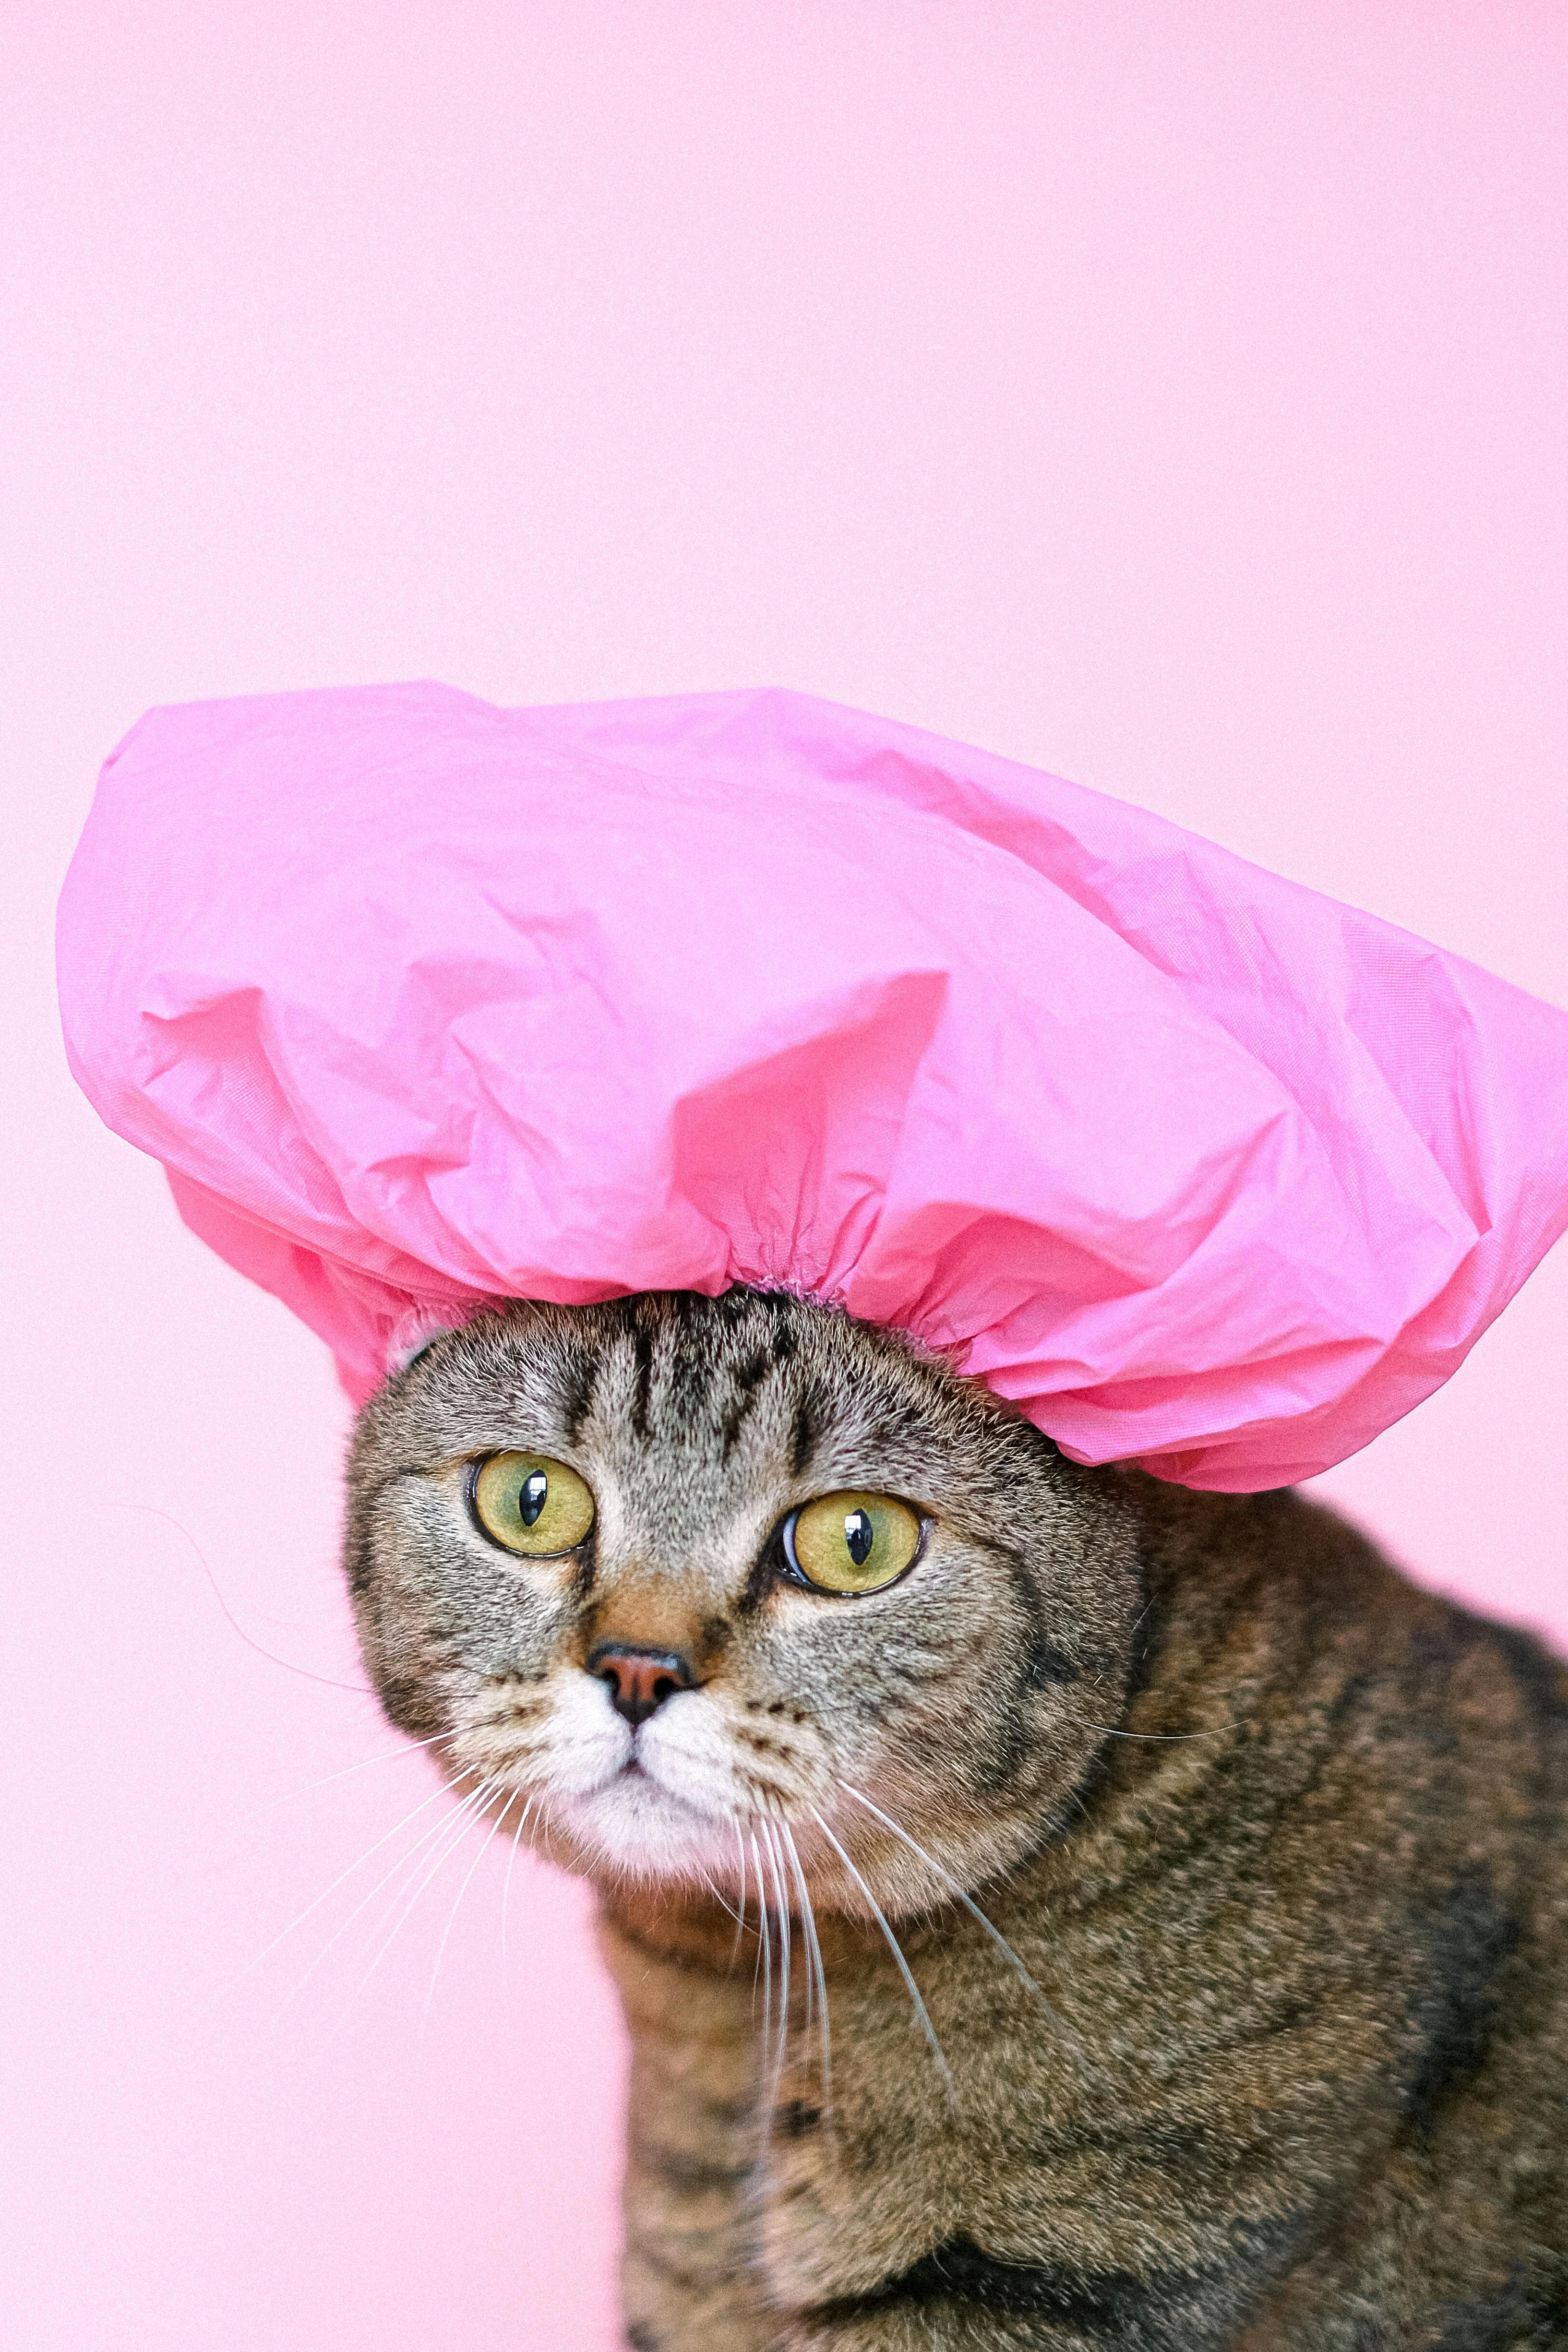kedo: (360, 1286, 1568, 2343)
